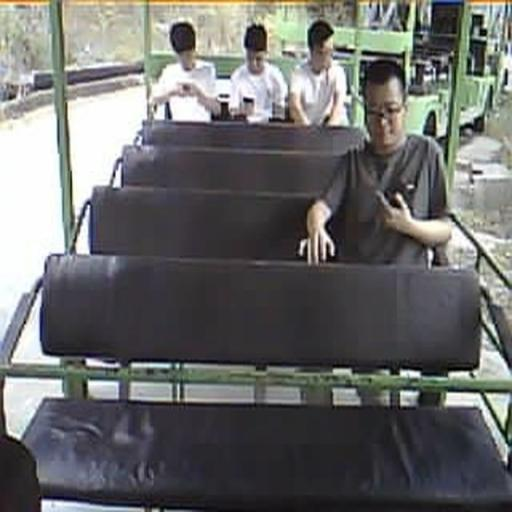persona: (302, 58, 452, 408), (303, 58, 452, 268), (150, 20, 219, 122), (288, 18, 350, 128), (228, 22, 290, 122)
